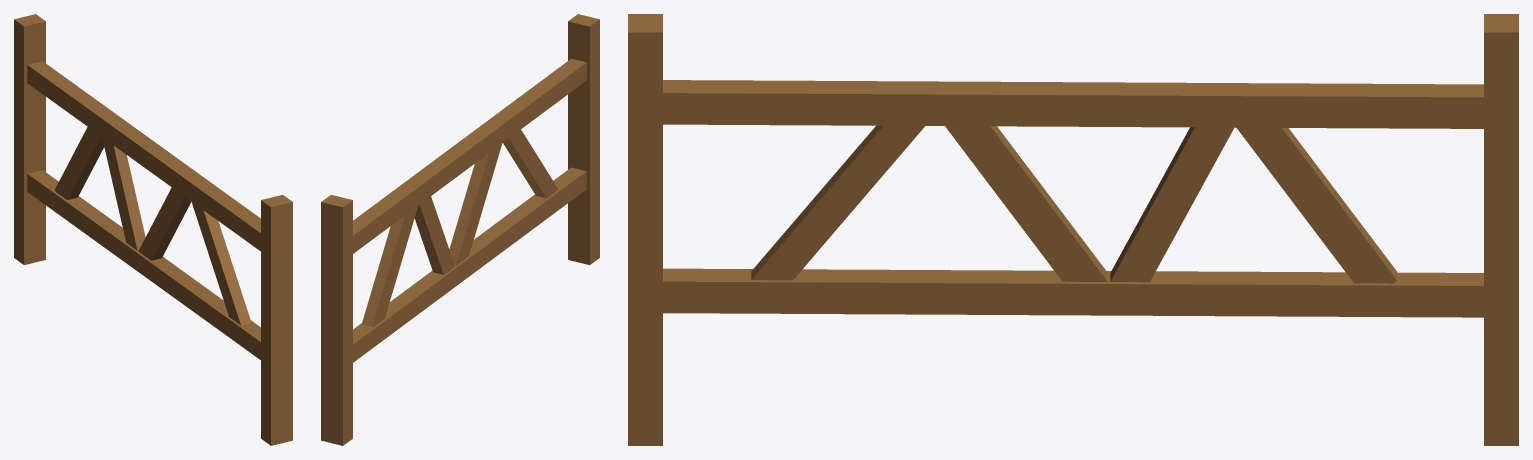
The model's file is barriere.fbx.
The picture shows the model from 3 angles, left to right: view 1: azimuth 30°, elevation 25°; view 2: azimuth 150°, elevation 25°; view 3: azimuth 270°, elevation 25°; orthographic projection. The views are drawn at different scales.
Visible parts, largest first — view 1: Cube, Cube.002, Cube.001, Cube.003, Cube.004, Cube.006, Cube.005, Cube.007; view 2: Cube.001, Cube.002, Cube.003, Cube, Cube.007, Cube.005, Cube.006, Cube.004; view 3: Cube.002, Cube.003, Cube, Cube.001, Cube.007, Cube.005, Cube.004, Cube.006.
Boxes of the visible parts, x1,y1,x2,y2 form: Cube: [261, 195, 292, 445]; Cube.002: [27, 61, 260, 251]; Cube.001: [14, 14, 45, 264]; Cube.003: [27, 170, 260, 359]; Cube.004: [191, 202, 251, 325]; Cube.006: [102, 137, 145, 250]; Cube.005: [138, 187, 191, 260]; Cube.007: [55, 127, 104, 199]; Cube.001: [321, 195, 352, 445]; Cube.002: [353, 58, 586, 253]; Cube.003: [353, 167, 586, 362]; Cube: [568, 14, 599, 264]; Cube.007: [362, 206, 417, 326]; Cube.005: [449, 143, 502, 265]; Cube.006: [414, 196, 454, 274]; Cube.004: [503, 129, 558, 198]; Cube.002: [663, 80, 1483, 128]; Cube.003: [663, 268, 1483, 317]; Cube: [628, 14, 662, 445]; Cube.001: [1484, 14, 1518, 445]; Cube.007: [1236, 127, 1397, 283]; Cube.005: [945, 126, 1106, 281]; Cube.004: [751, 125, 924, 280]; Cube.006: [1110, 127, 1233, 282].
Size of the model in its own units: 17.52 by 182 by 356.
